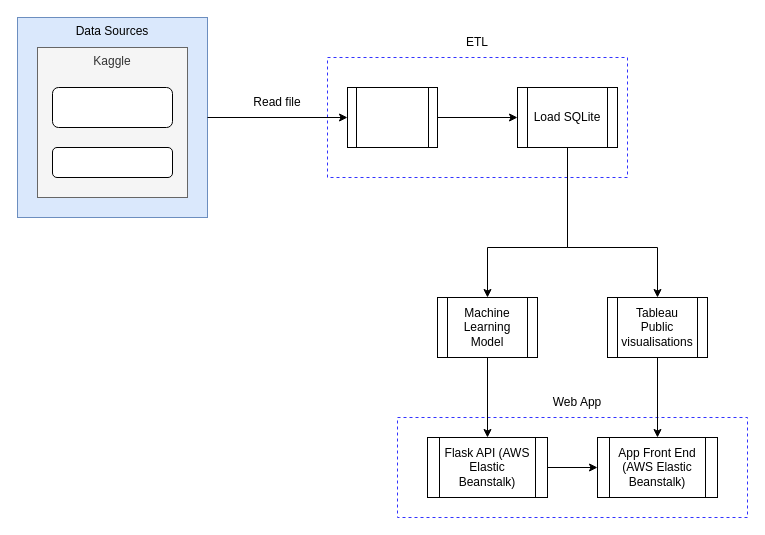
The diagram is 765 pixels wide and 535 high, and some of its shapes have lost their labels. The shapes that lost their labels are listed below. From the top down, each one's centre as x and y in pixels, then its label:
pixel 112 107: fight_data2010-2021.csv
pixel 392 117: Python ETL Notebook
pixel 112 162: fight_data.csv
